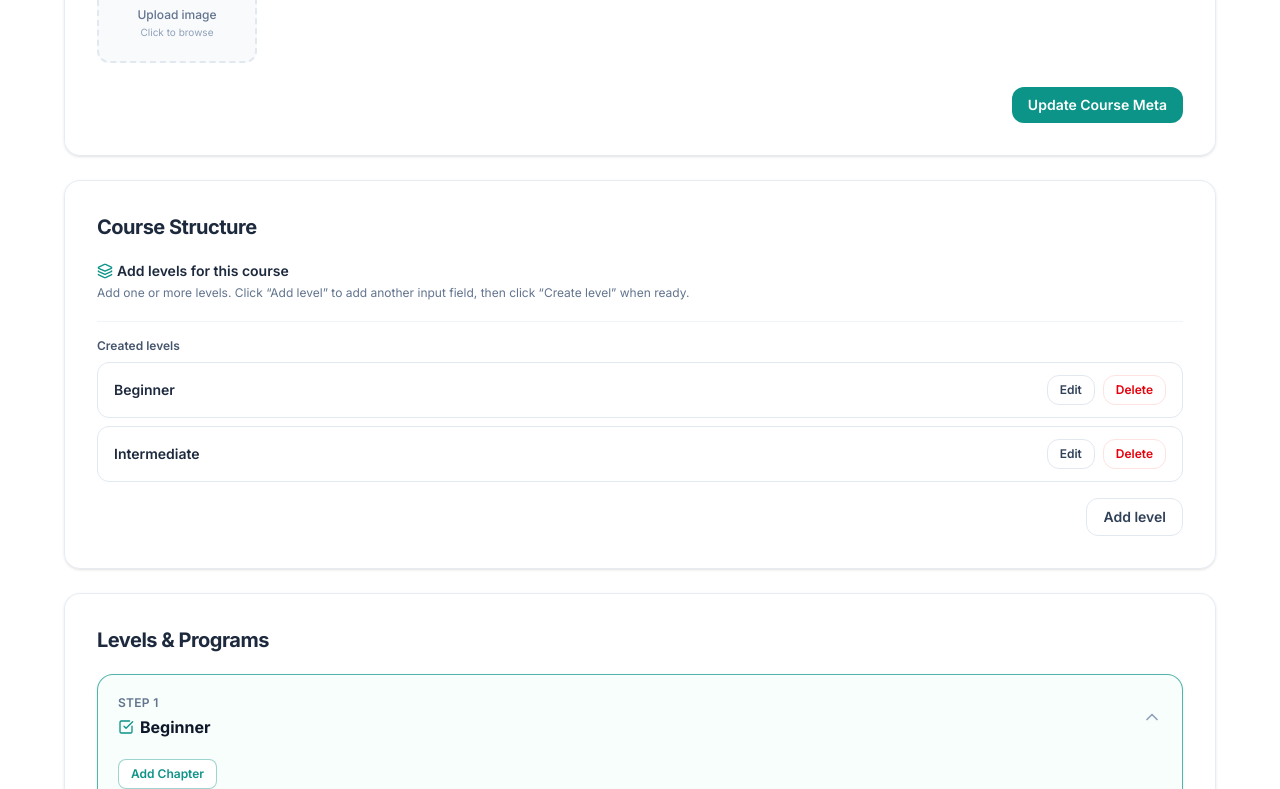
Test: InstituteAdminCourseBuilder – levels panel (with API modules) › shows confirm modal when Delete button is clicked for a level
(page scrolled)
Click the 1st button "Delete" at (1134, 390), box [1103,374,1166,404]
(page scrolled)
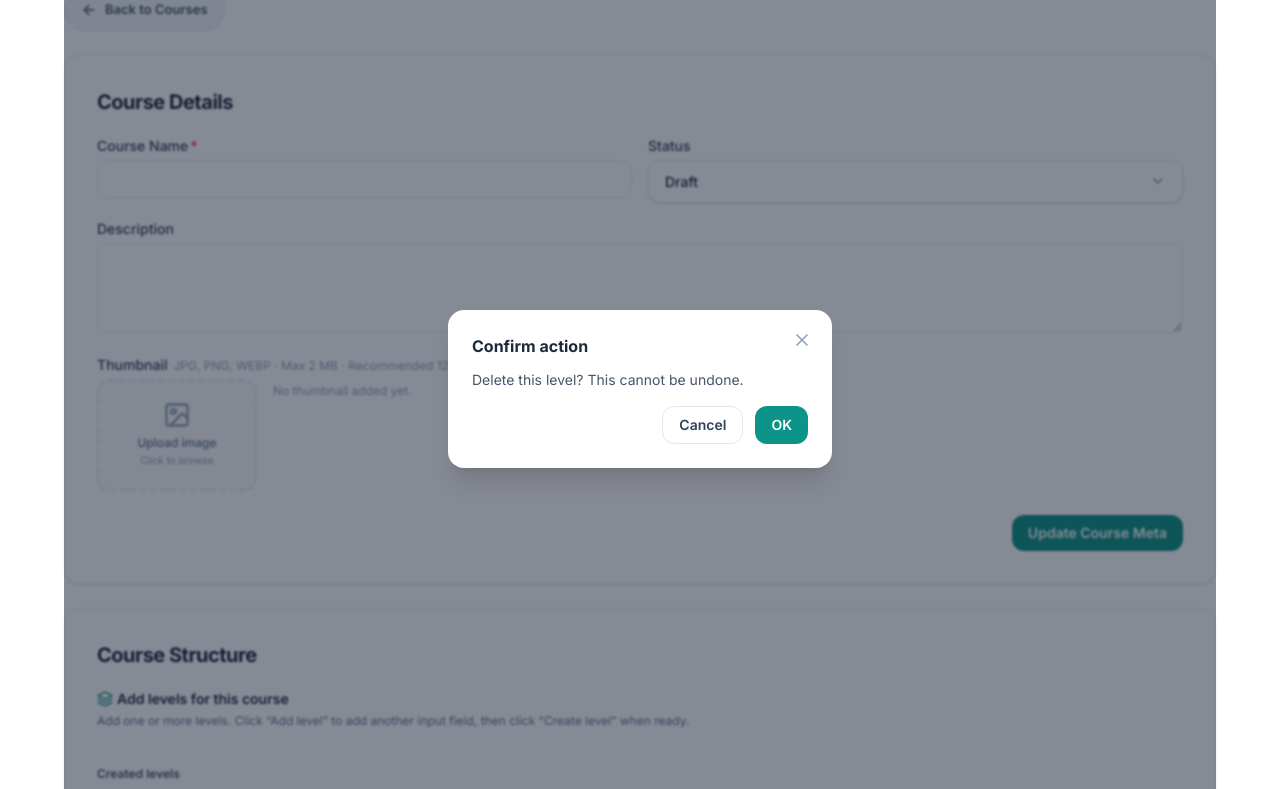
Expected: the heading "Confirm action" is shown, [472,336,588,356]
Expected: the text "Delete this level? This cannot be undone." is shown, [472,371,744,388]
